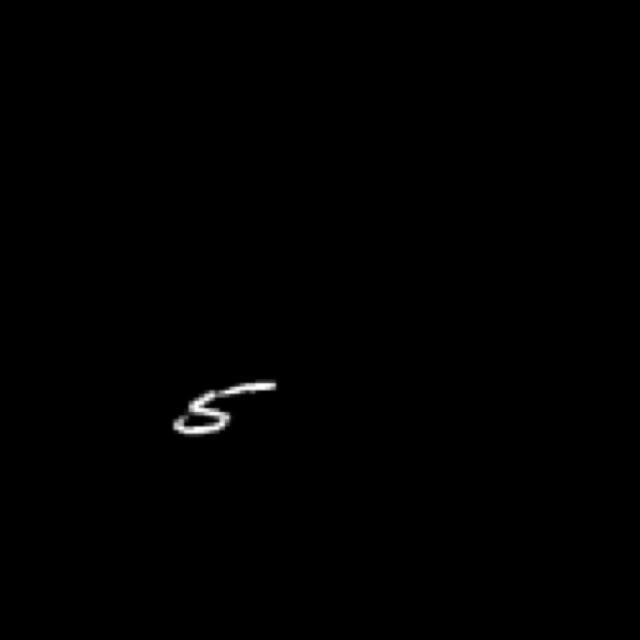five -5-: (157, 377, 288, 443)
